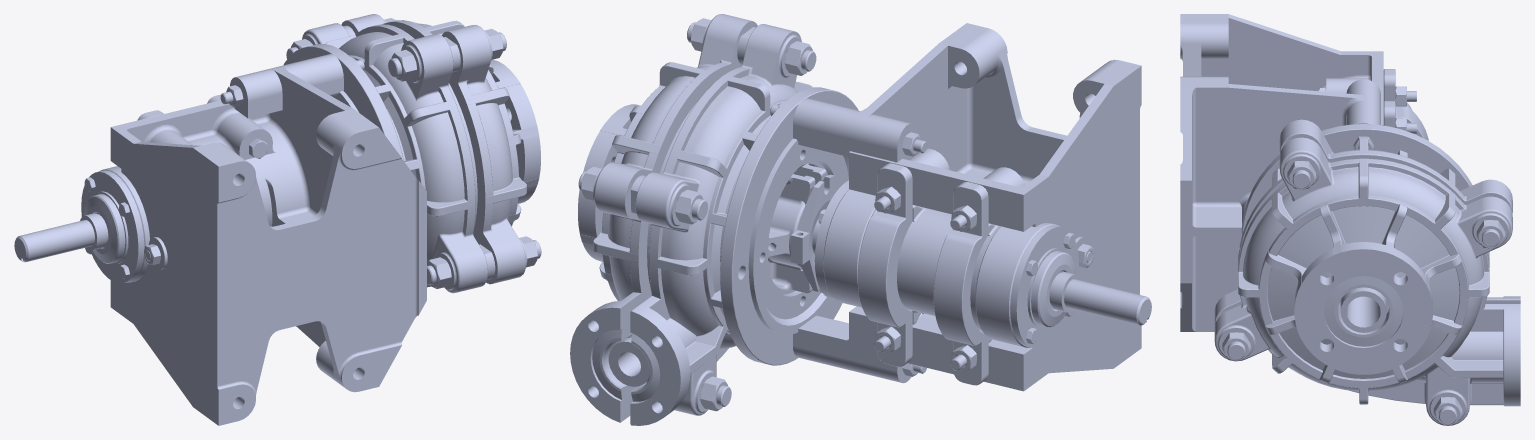
Rendered from waterPump.fbx.
The picture shows the model from 3 angles, left to right: view 1: azimuth 30°, elevation 25°; view 2: azimuth 150°, elevation 25°; view 3: azimuth 270°, elevation 25°; orthographic projection. The views are drawn at different scales.
Parts seen in each view (by area): view 1: Brep_1 (×9), nut_gb_t_6171_m18x1_5 (×2); view 2: Brep_1 (×16), nut_gb_t_6171_m18x1_5 (×3); view 3: Brep_1 (×6), nut_gb_t_6171_m18x1_5 (×4).
Boxes of the visible parts, <box> form: Brep_1 (×9): <box>14,14,541,425</box>; nut_gb_t_6171_m18x1_5 (×2): <box>391,49,451,288</box>; Brep_1 (×16): <box>570,14,1151,425</box>; nut_gb_t_6171_m18x1_5 (×3): <box>675,41,812,411</box>; Brep_1 (×6): <box>1180,14,1520,425</box>; nut_gb_t_6171_m18x1_5 (×4): <box>1222,161,1505,425</box>.
Size of the model in its own units: 576 by 333 by 373.
